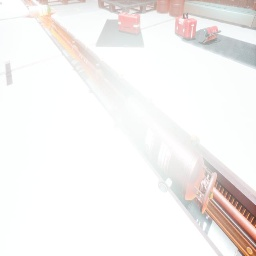0: (28, 5, 55, 17)
FireExtinguisher ]: (199, 26, 221, 43)
FirstAidBox ,: (175, 12, 197, 39), (118, 12, 140, 35)
NitrogenTank ,: (122, 95, 217, 214)
